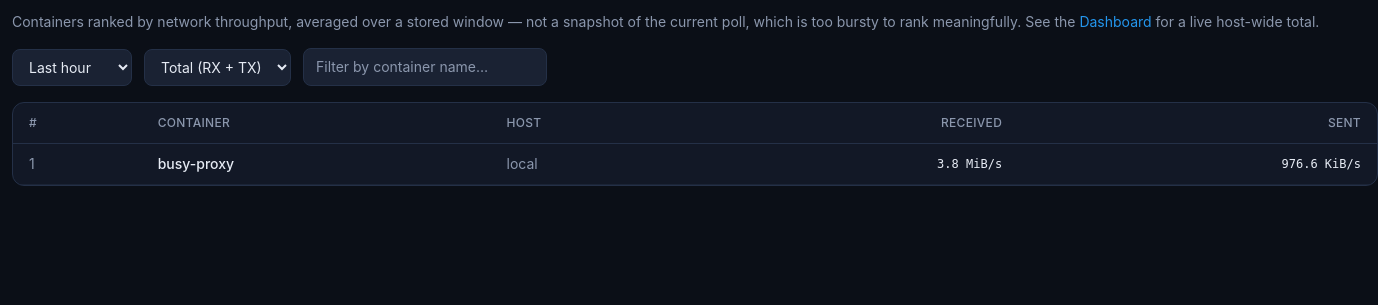
NetworkTab page › shows an empty state instead of a blank table when nothing has enough history
Select "Last hour" in the 1st dropdown at [72, 67], box [12,48,132,86]
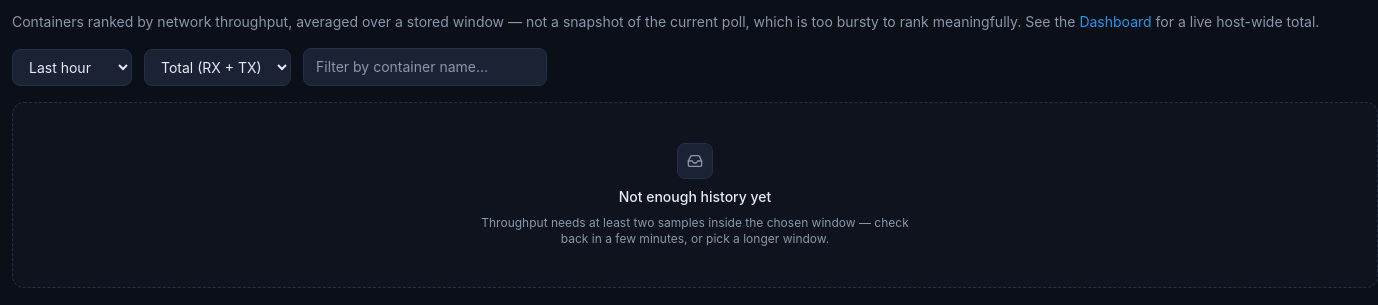
Expected: the text "Not enough history yet" is shown, [619,187,771,207]
